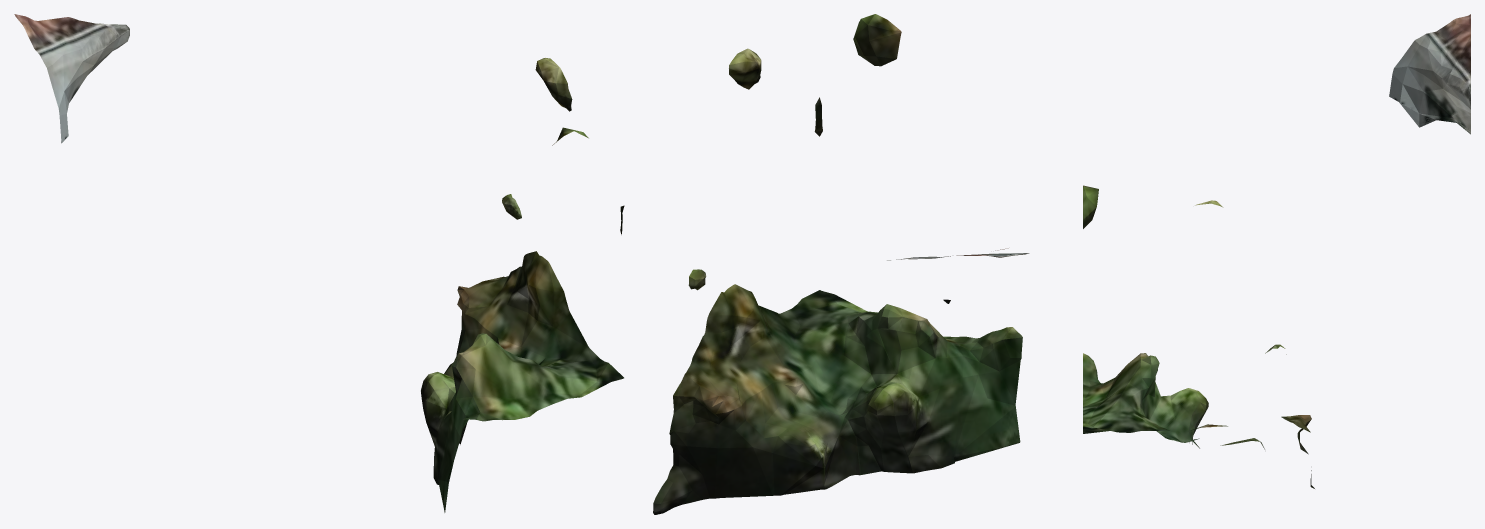
The picture shows the model from 3 angles, left to right: view 1: azimuth 30°, elevation 25°; view 2: azimuth 150°, elevation 25°; view 3: azimuth 270°, elevation 25°; orthographic projection. The views are drawn at different scales.
Size of the model in its own units: 1.67 by 1.61 by 1.67.
Materials: 1 (1 with a texture image).
